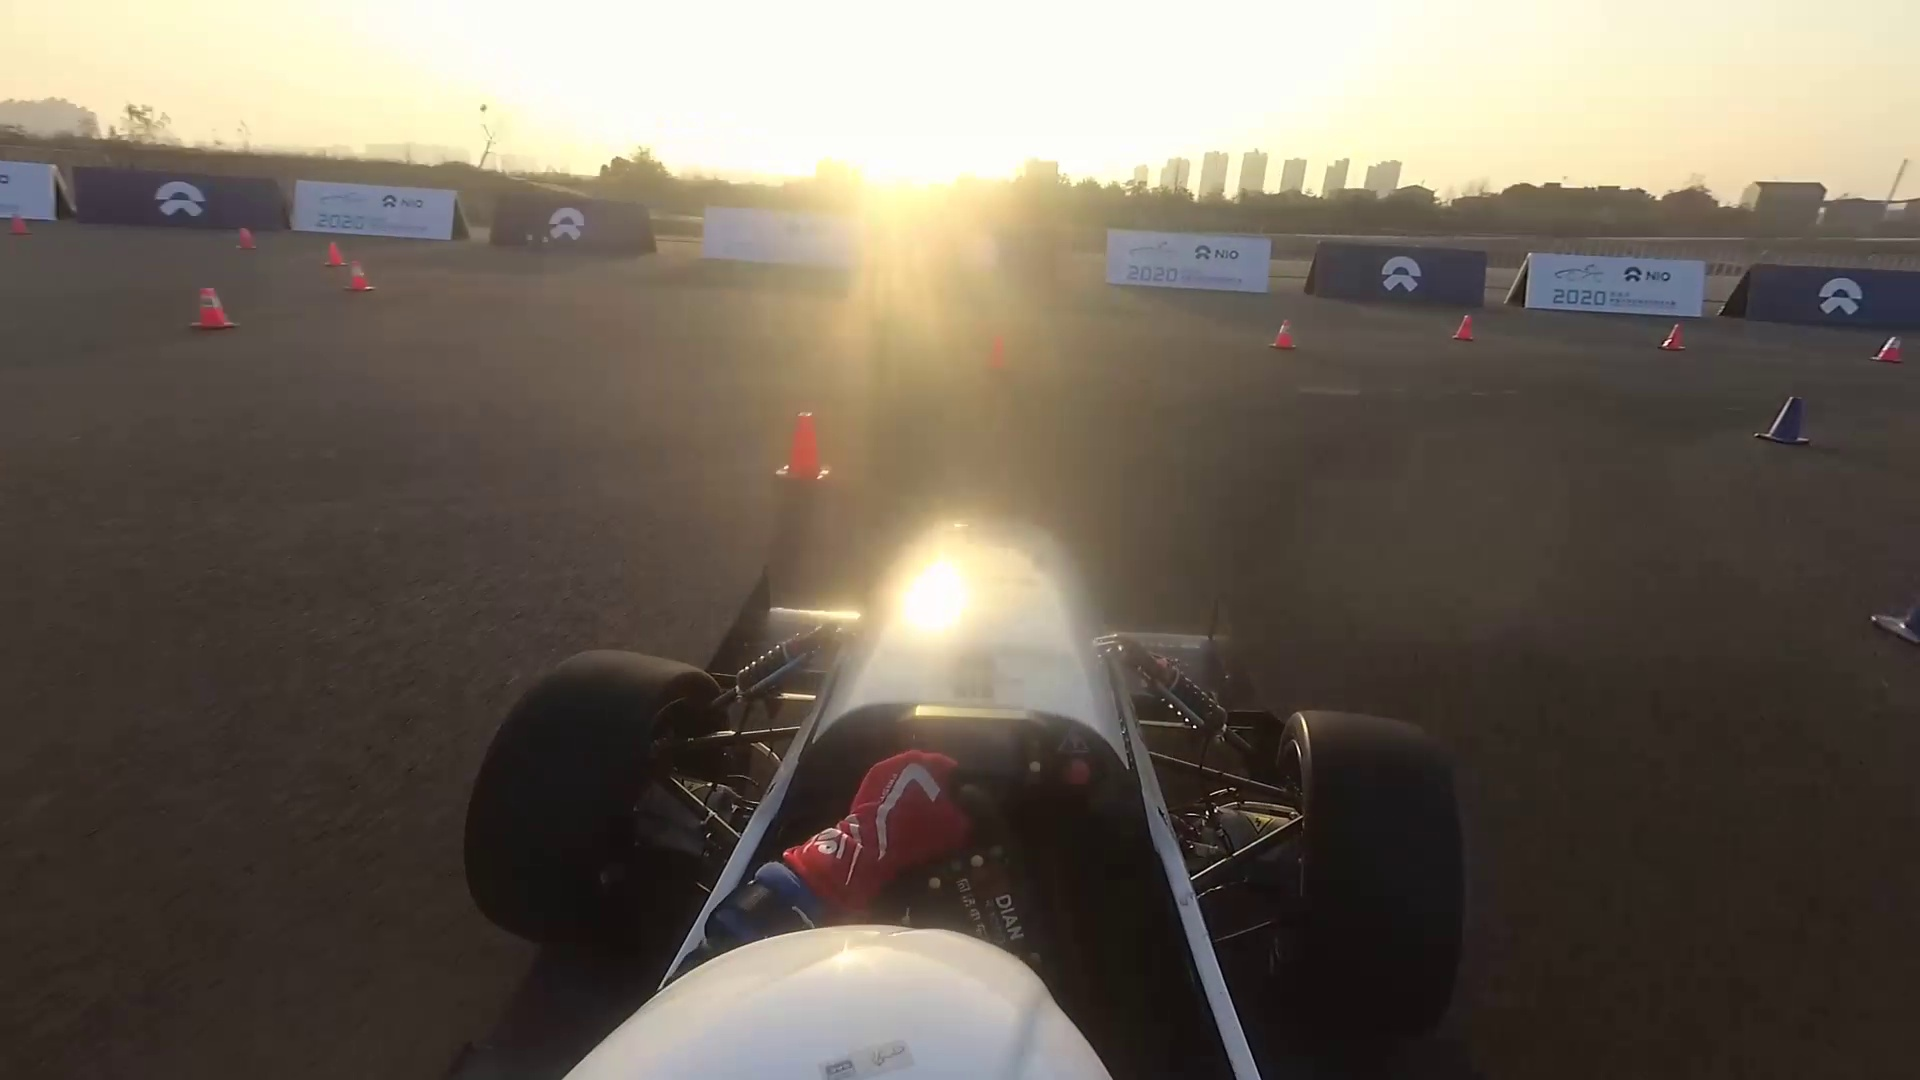blue_cone: (1763, 394, 1808, 442)
red_cone: (777, 411, 825, 488), (193, 289, 229, 328), (343, 258, 375, 297), (316, 243, 347, 274), (1875, 334, 1905, 364), (233, 223, 258, 256), (1452, 310, 1476, 343), (982, 332, 1001, 373), (1664, 320, 1685, 353), (1270, 316, 1292, 347)
